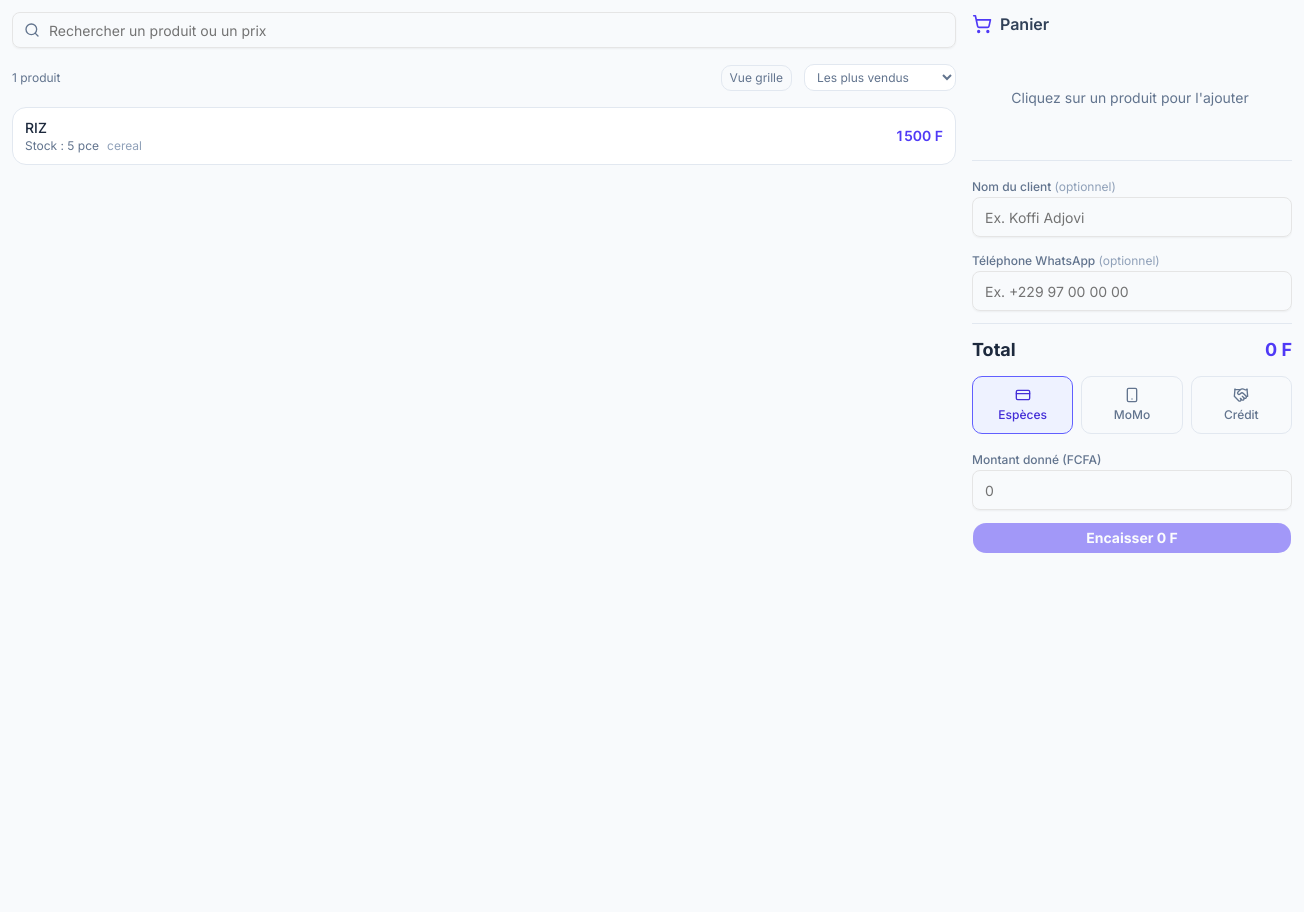
Test: POS — vente hors-ligne › un refus métier (stock) reste une erreur, jamais une vente en file
Click the text "RIZ". click: (36, 128)
box: [25,119,47,136]
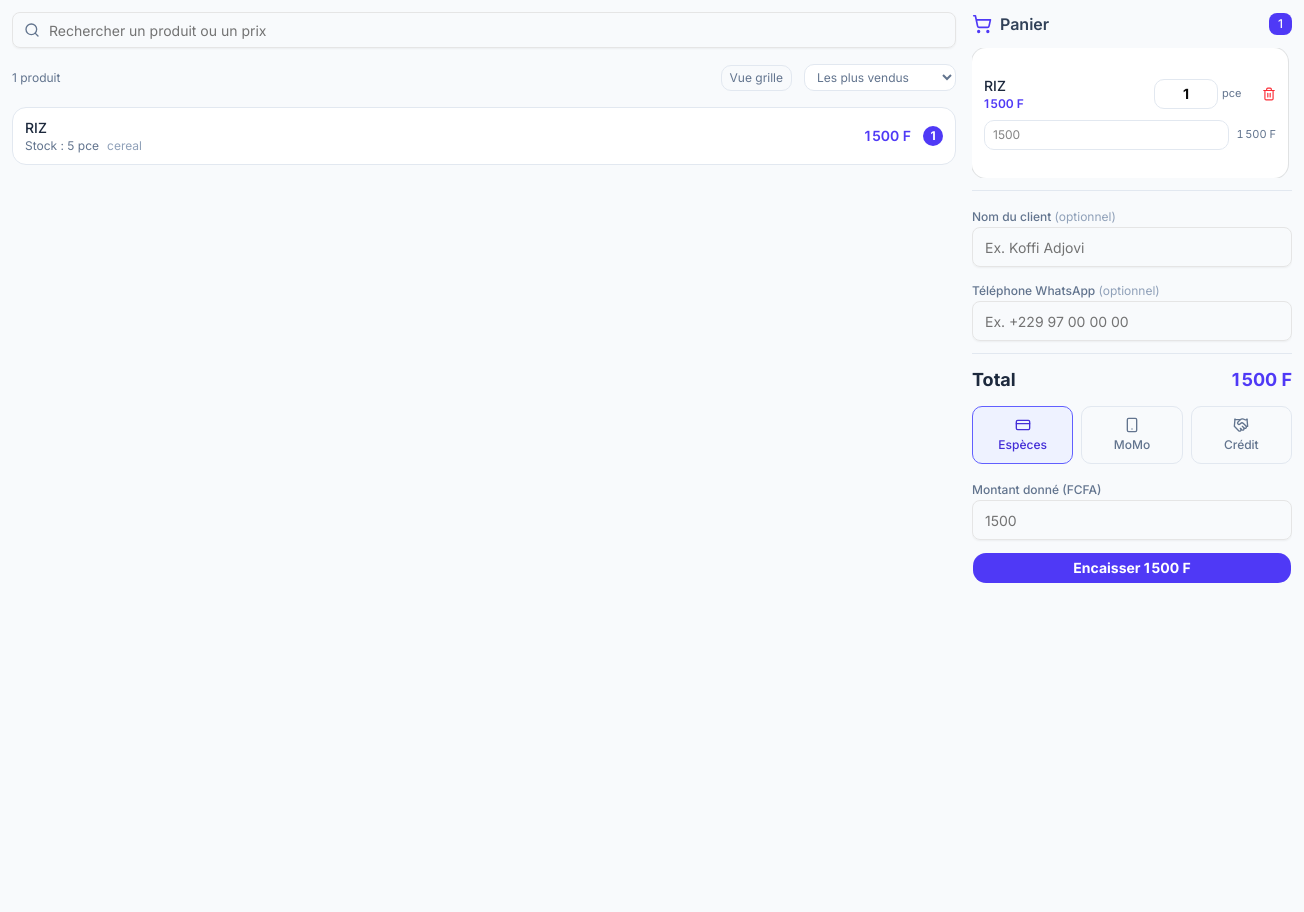
Click the button "Encaisser 1 500 F". click: (1132, 568)
box: [972,552,1292,584]
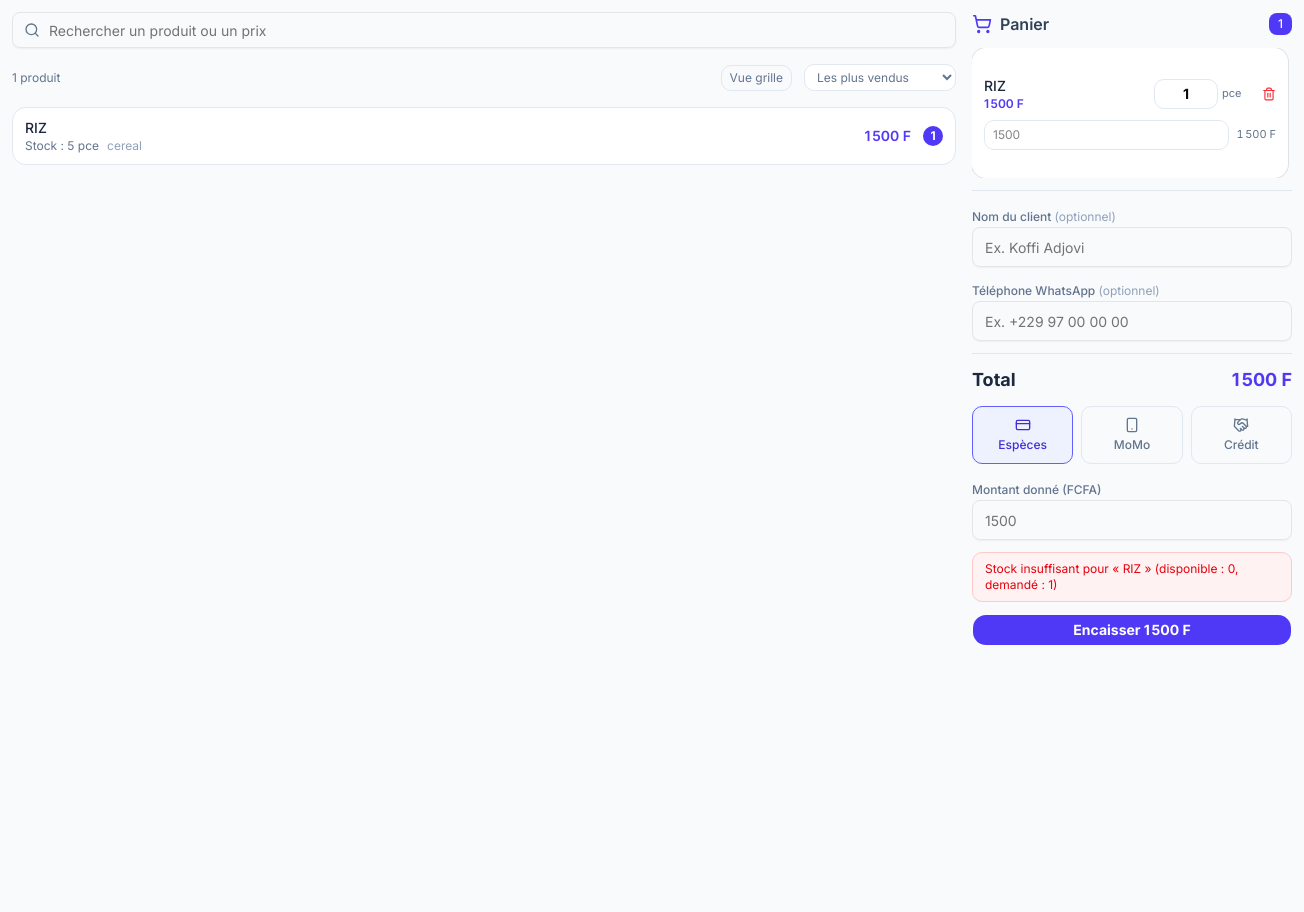
Result: the text "Stock insuffisant pour « RIZ » (disponible : 0, demandé : 1)" is shown at [972,552,1292,602]
